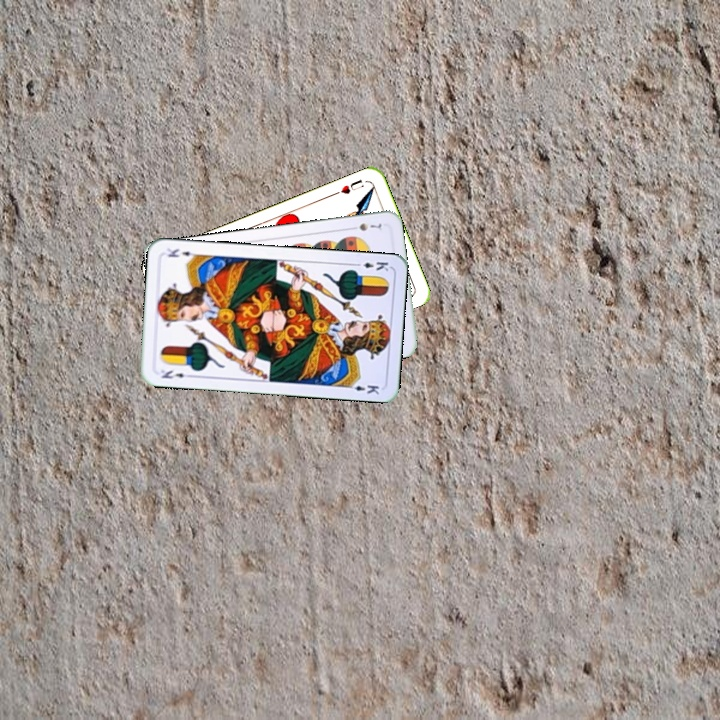EK: (351, 258, 391, 273), (157, 366, 194, 381)
HU: (330, 175, 366, 198)
S7: (346, 219, 384, 234)
